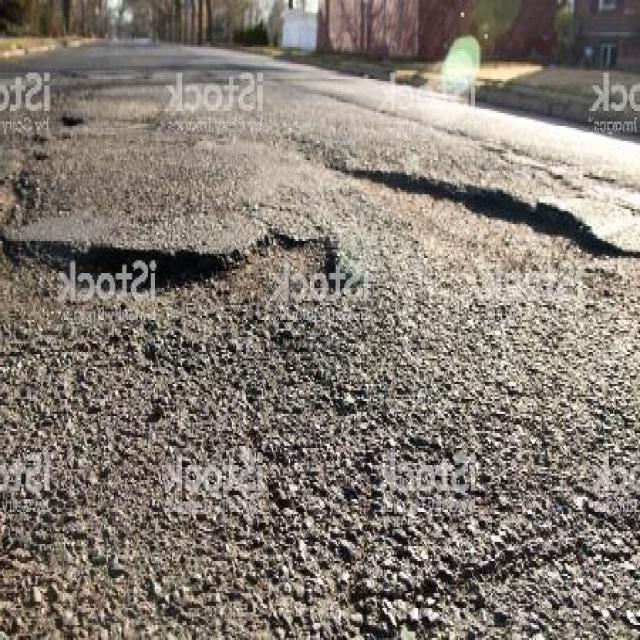buraco: (334, 164, 638, 299), (332, 156, 632, 290), (1, 231, 335, 334), (1, 224, 348, 320)
